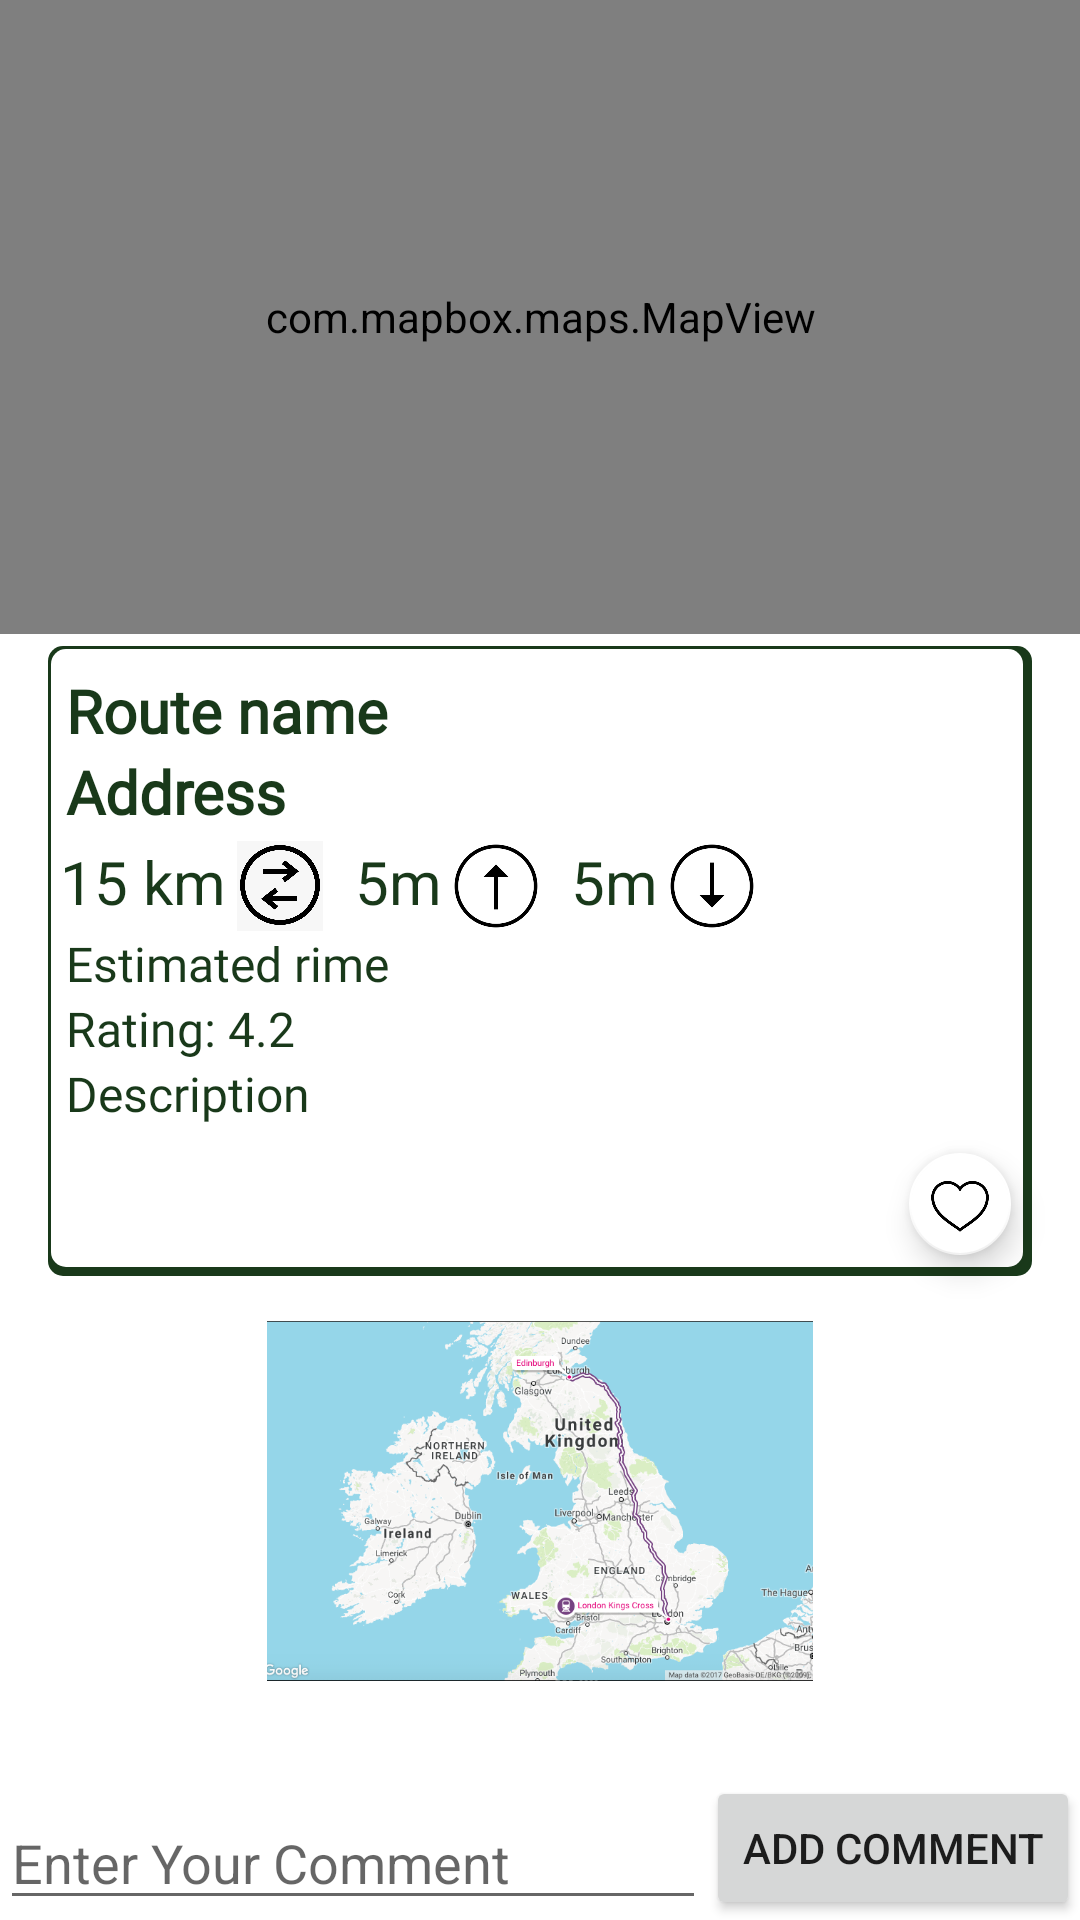

Icons on this 1080w x 1920h Android screen, each with its box as {"x1": x1, "y1": y1, "x2": x2, "y2": y2}:
circle down: {"x1": 670, "y1": 844, "x2": 754, "y2": 928}
circle up: {"x1": 454, "y1": 844, "x2": 538, "y2": 928}
save: {"x1": 888, "y1": 1132, "x2": 1032, "y2": 1276}
